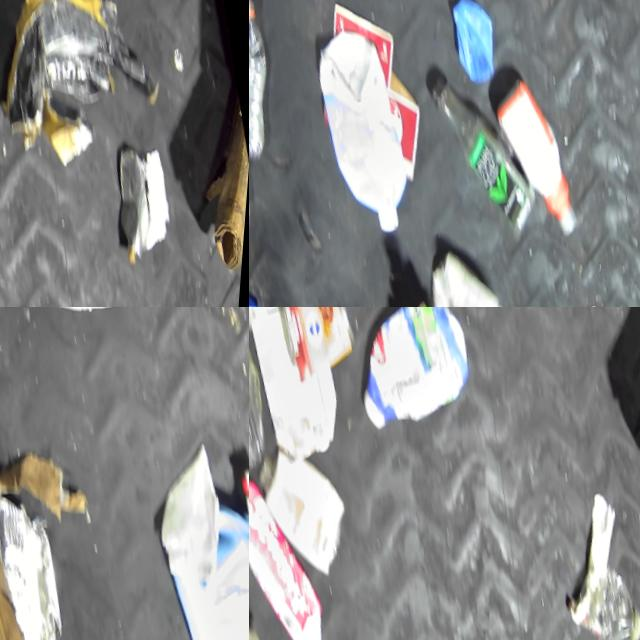can: (105, 134, 178, 258), (269, 307, 367, 381)
milk_jug: (308, 27, 438, 242)
non_white_jug: (144, 435, 249, 640), (343, 307, 489, 431)
plastic_bottle: (424, 54, 561, 252), (249, 0, 298, 171), (576, 550, 640, 640), (249, 146, 277, 289)
